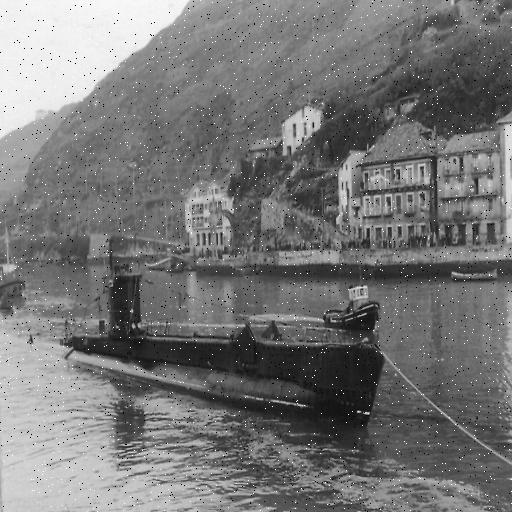submarine: (61, 277, 387, 427)
